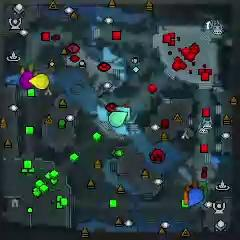p1: (188, 187, 204, 209)
p2: (109, 111, 127, 128)
p3: (19, 71, 35, 90)
p4: (29, 74, 51, 90)
p5: (183, 187, 191, 206)
x2: (20, 62, 37, 75)
x3: (115, 105, 131, 123)
x4: (194, 180, 208, 199)
